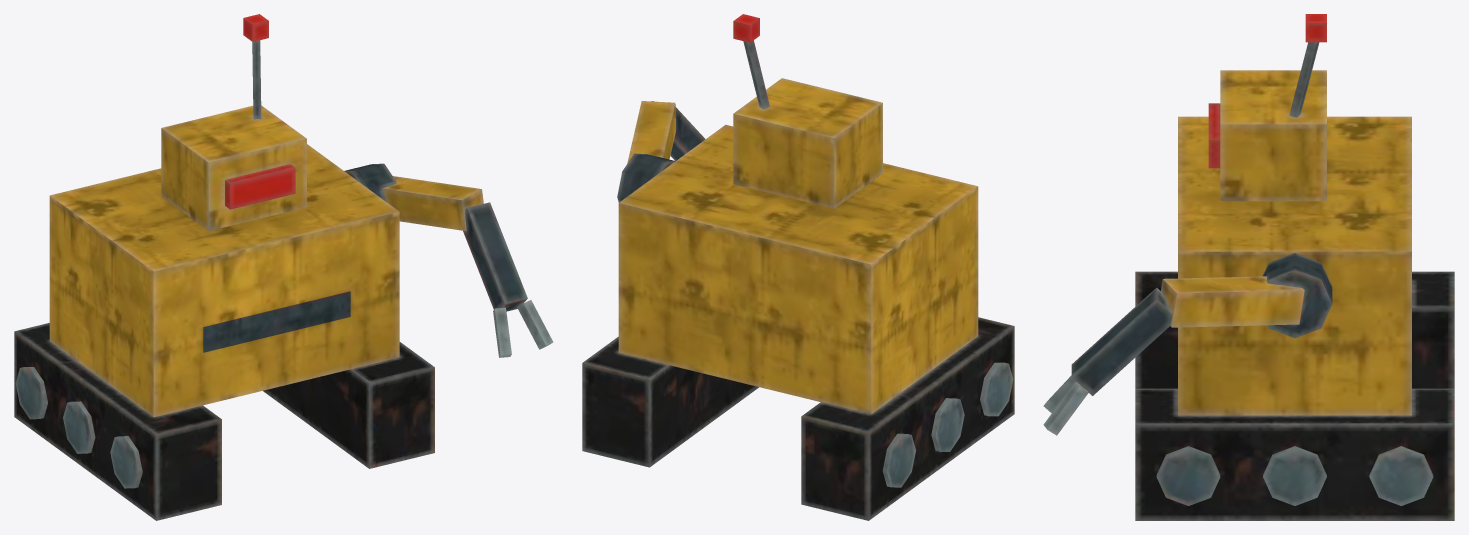
The model's file is robot_t1.glb.
3 views of the same model, side by side, from view 1: azimuth 30°, elevation 25°; view 2: azimuth 150°, elevation 25°; view 3: azimuth 270°, elevation 25° (orthographic). The views are drawn at different scales.
Visible parts, largest first — view 1: te_res_robot_t1; view 2: te_res_robot_t1; view 3: te_res_robot_t1.
Part boxes in pixels (box(x1,y1,x2,y2)): te_res_robot_t1: box(14, 14, 553, 520); te_res_robot_t1: box(582, 14, 1014, 520); te_res_robot_t1: box(1043, 14, 1454, 520).
Size of the model in its own units: 0.4472 by 0.465 by 0.3864.
1 material, 1 textured.
